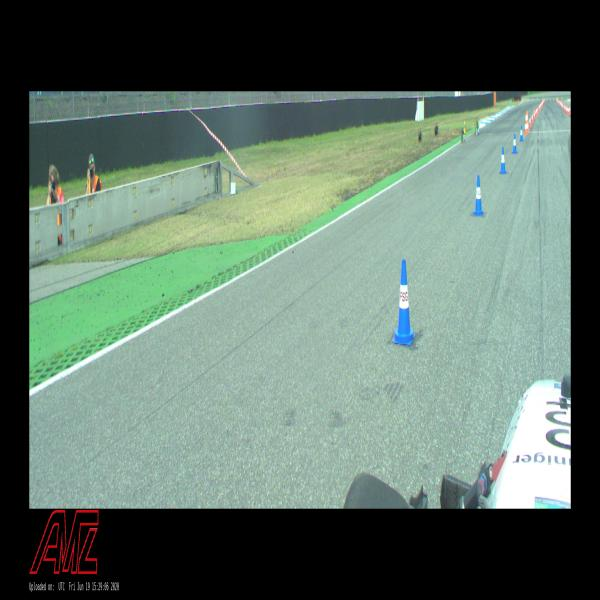blue_cone: (392, 260, 416, 345), (473, 175, 483, 216), (500, 147, 506, 174), (512, 134, 518, 153), (520, 126, 524, 141)
large_orange_cone: (524, 112, 529, 134), (527, 111, 529, 132)
orange_cone: (528, 116, 532, 127), (531, 112, 534, 122)
yellow_cone: (463, 122, 466, 132)
